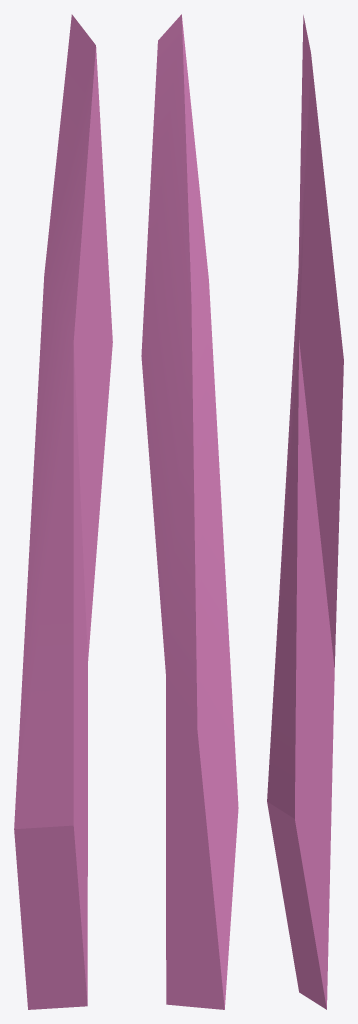
The model's file is FloatingRock_6.fbx.
The picture shows the model from 3 angles, left to right: view 1: azimuth 30°, elevation 25°; view 2: azimuth 210°, elevation 25°; view 3: azimuth 330°, elevation 25°; orthographic projection.
Visible parts, largest first — view 1: FloatingRock_6; view 2: FloatingRock_6; view 3: FloatingRock_6.
Part boxes in pixels (x1,y1,x2,y2): FloatingRock_6: (14, 14, 112, 1009); FloatingRock_6: (141, 14, 238, 1009); FloatingRock_6: (267, 15, 343, 1009).
Bounding box in the file's own units: 116 × 69.09 × 1269.
